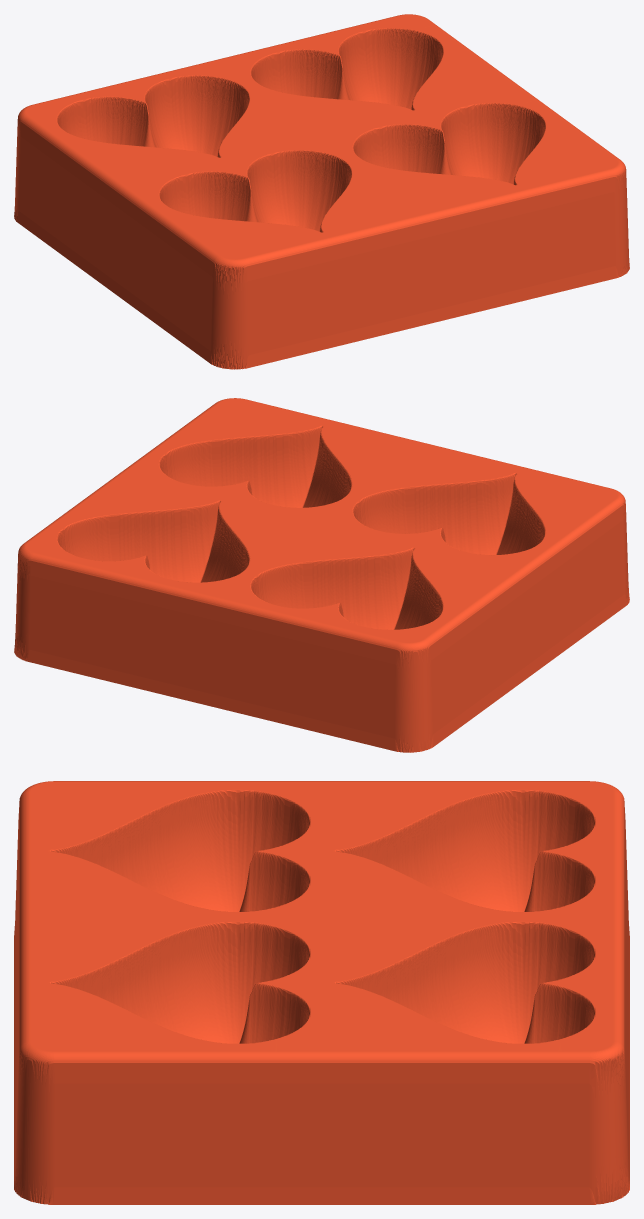
The model's file is mold.glb.
3 renders of one model, top to bottom at view 1: azimuth 30°, elevation 25°; view 2: azimuth 150°, elevation 25°; view 3: azimuth 270°, elevation 25°, orthographic. The views are drawn at different scales.
Visible parts, largest first — view 1: geometry_0; view 2: geometry_0; view 3: geometry_0.
Part boxes in pixels (x1,y1,x2,y2): geometry_0: (14,14,629,369); geometry_0: (14,398,629,752); geometry_0: (14,781,629,1204).
Bounding box in the file's own units: 0.1493 × 0.036 × 0.1373.
